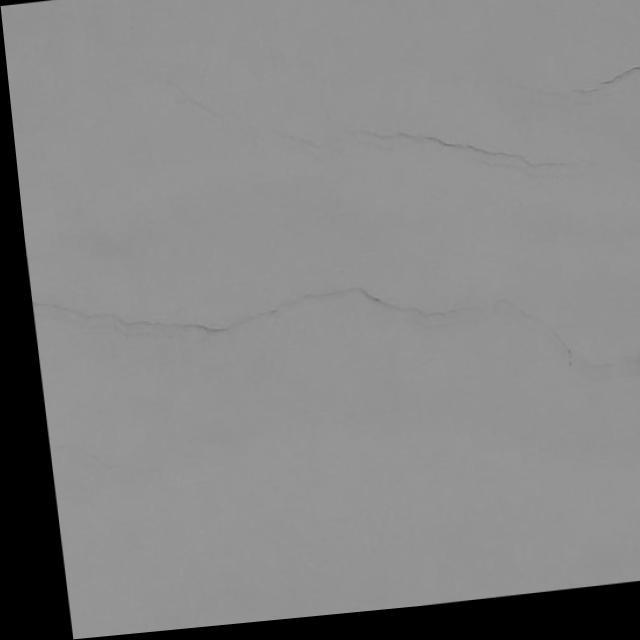Crack: (54, 283, 568, 343), (367, 122, 606, 172), (564, 64, 639, 96)
